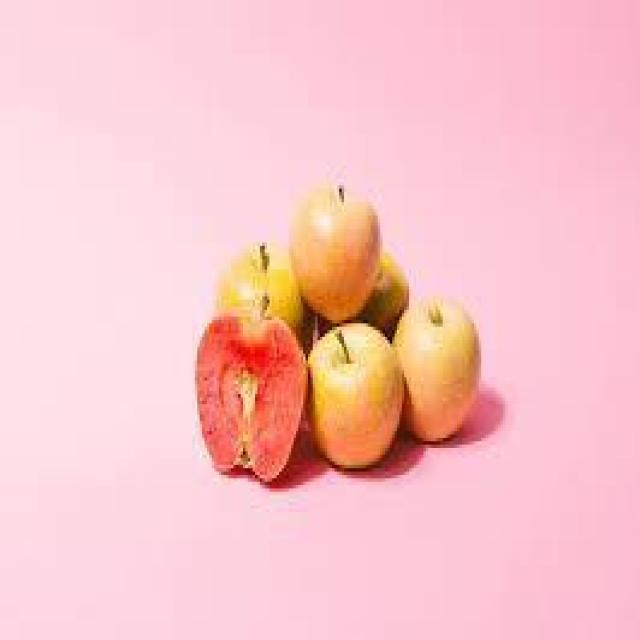maca: (196, 164, 478, 444)
